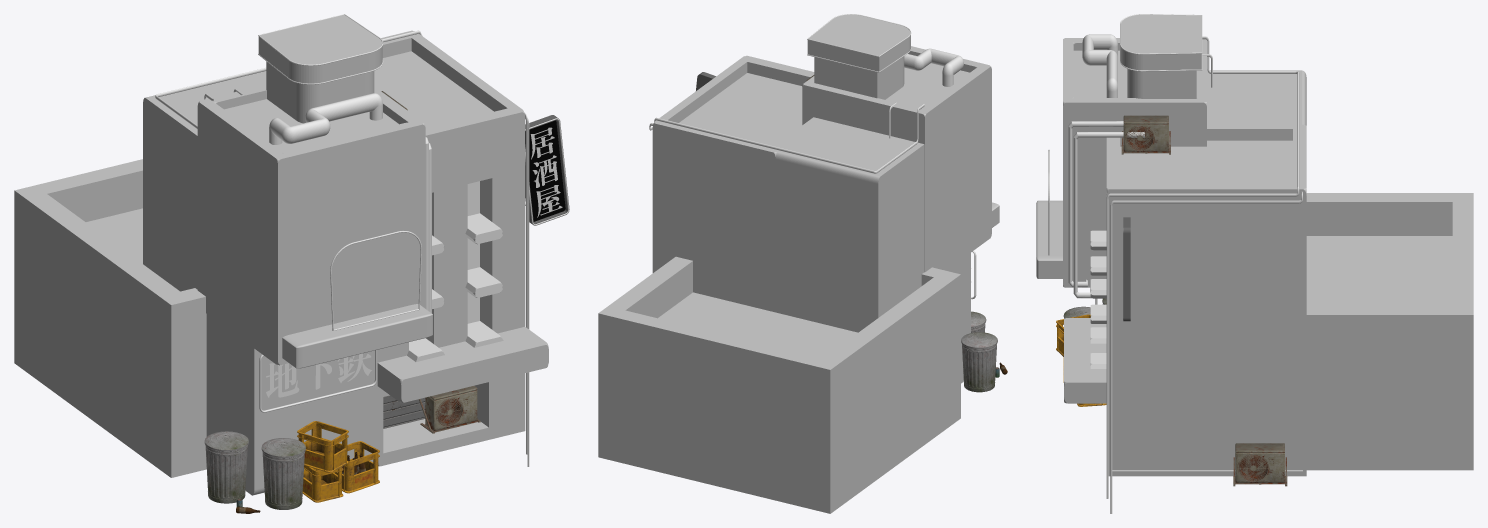
The model's file is neonuilding.fbx.
3 views of the same model, side by side, from view 1: azimuth 30°, elevation 25°; view 2: azimuth 150°, elevation 25°; view 3: azimuth 270°, elevation 25° (orthographic). The views are drawn at different scales.
Parts seen in each view (by area): view 1: 立方体.005, 立方体.004, 立方体.017, 立方体.001, 立方体, kanvban, 円柱.001, 円柱.003, 立方体.014, 立方体.007, 立方体.010, situgaiki.001 (+12 smaller); view 2: 立方体.017, 立方体.005, 立方体.004, 立方体.001, 円柱.003, 立方体.014, 立方体.012, 立方体.002; view 3: 立方体.005, 立方体.017, 立方体.004, 立方体.001, 立方体.012, situgaiki.003, 立方体, 立方体.010, situgaiki.002, 立方体.013, 立方体.014, 立方体.016 (+3 smaller).
Boxes of the visible parts, x1,y1,x2,y2 form: 立方体.005: (143, 30, 548, 495); 立方体.004: (197, 84, 425, 365); 立方体.017: (14, 159, 206, 477); 立方体.001: (258, 15, 382, 123); 立方体: (282, 304, 432, 368); kanvban: (525, 115, 569, 225); 円柱.001: (261, 438, 305, 509); 円柱.003: (204, 431, 248, 503); 立方体.014: (269, 93, 382, 144); 立方体.007: (409, 178, 492, 350); 立方体.010: (407, 222, 503, 361); situgaiki.001: (419, 386, 480, 433); 立方体.017: (598, 256, 960, 513); 立方体.005: (652, 55, 970, 383); 立方体.004: (802, 46, 991, 271); 立方体.001: (807, 14, 910, 99); 円柱.003: (961, 332, 997, 392); 立方体.014: (904, 48, 963, 86); 立方体.012: (654, 104, 924, 173); 立方体.002: (807, 14, 911, 72); 立方体.005: (1064, 70, 1306, 476); 立方体.017: (1306, 193, 1473, 470); 立方体.004: (1063, 38, 1206, 287); 立方体.001: (1120, 14, 1201, 98); 立方体.012: (1106, 36, 1299, 498); situgaiki.003: (1233, 443, 1287, 486); 立方体: (1036, 200, 1062, 278); 立方体.010: (1090, 230, 1106, 368); situgaiki.002: (1121, 115, 1170, 154); 立方体.013: (1110, 54, 1302, 513); 立方体.014: (1082, 34, 1117, 97); 立方体.016: (1073, 132, 1144, 298).
Size of the model in its own units: 491 by 580 by 571.
